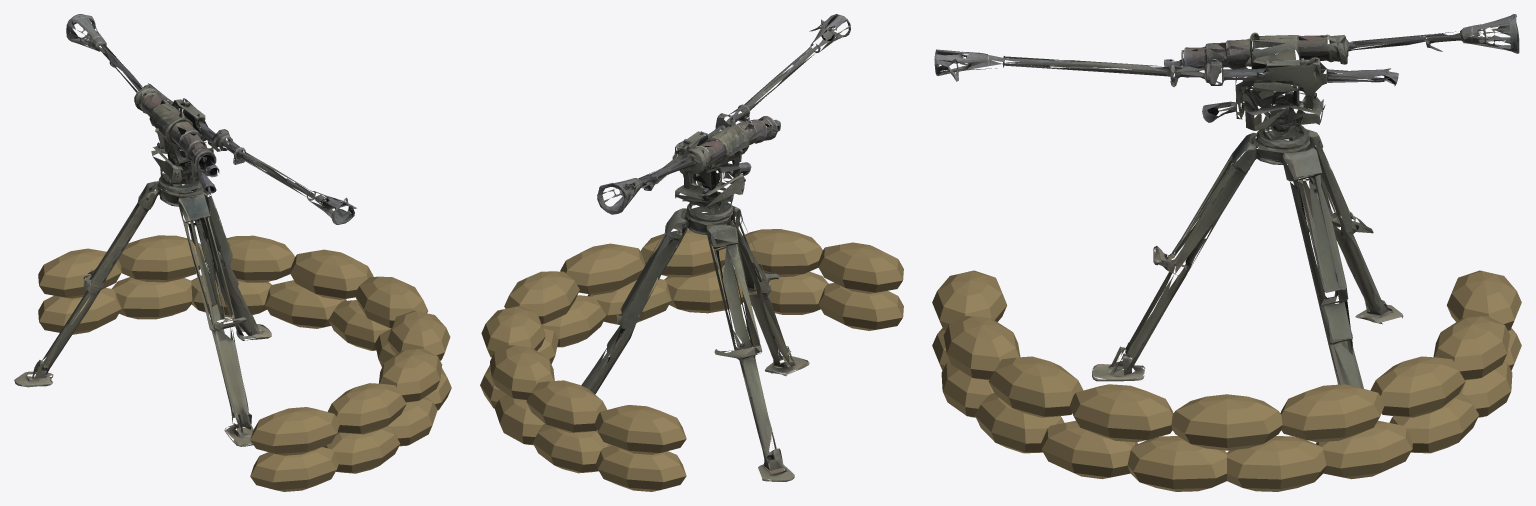
File: dshk_nest.glb
The picture shows the model from 3 angles, left to right: view 1: azimuth 30°, elevation 25°; view 2: azimuth 150°, elevation 25°; view 3: azimuth 270°, elevation 25°; orthographic projection. The views are drawn at different scales.
Visible parts, largest first — view 1: dshk_nest; view 2: dshk_nest; view 3: dshk_nest.
Boxes of the visible parts, x1=… form: dshk_nest: x1=14, y1=14, x2=451, y2=491; dshk_nest: x1=480, y1=14, x2=903, y2=491; dshk_nest: x1=932, y1=14, x2=1521, y2=491.
Bounding box in the file's own units: 2.34 × 2.01 × 2.97.
2 materials, 2 textured.
